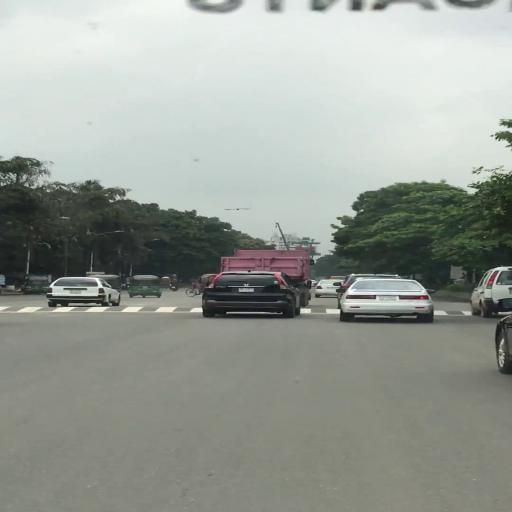car: (339, 280, 437, 325), (46, 278, 125, 309), (316, 280, 341, 300)
minivan: (469, 266, 511, 319)
motorbike: (169, 279, 182, 292)
rickshaw: (183, 275, 205, 299), (162, 277, 170, 289)
suv: (201, 271, 306, 321)
three wheelers CNG: (128, 276, 164, 299), (24, 278, 48, 296)
truck: (220, 249, 315, 277)
